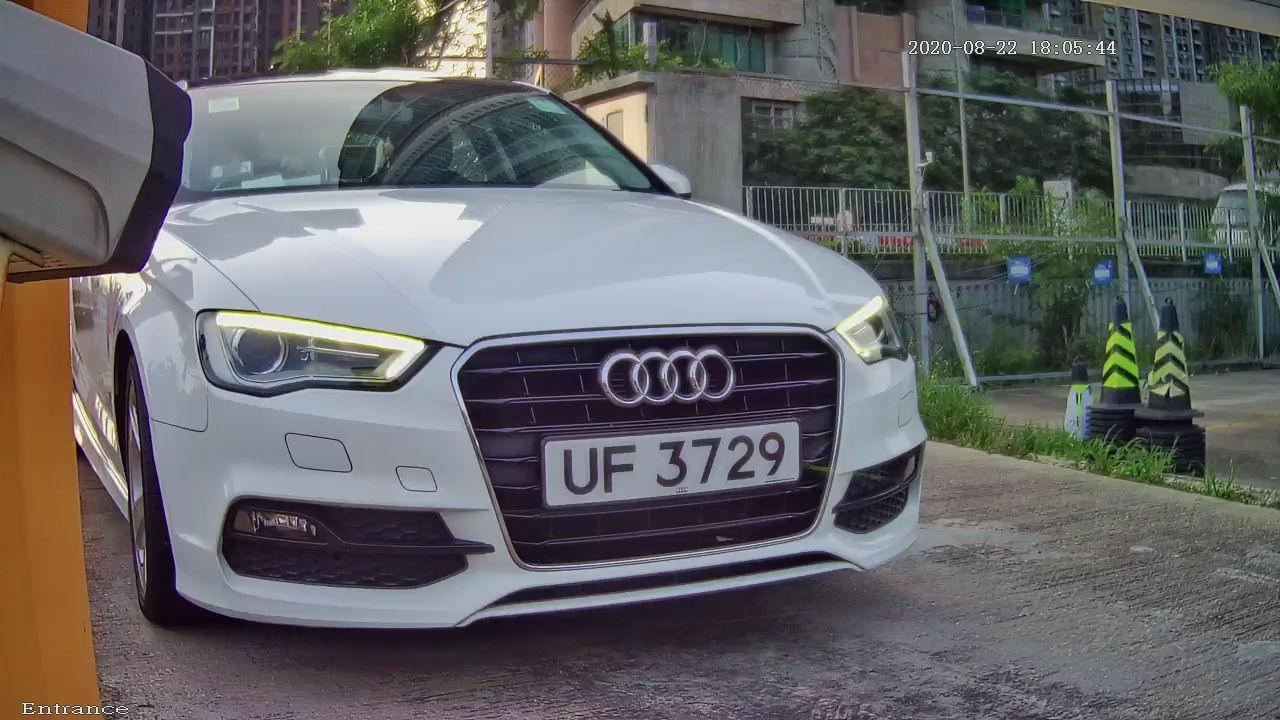Car: (12, 13, 1012, 679)
License Plate: (517, 381, 834, 528)
